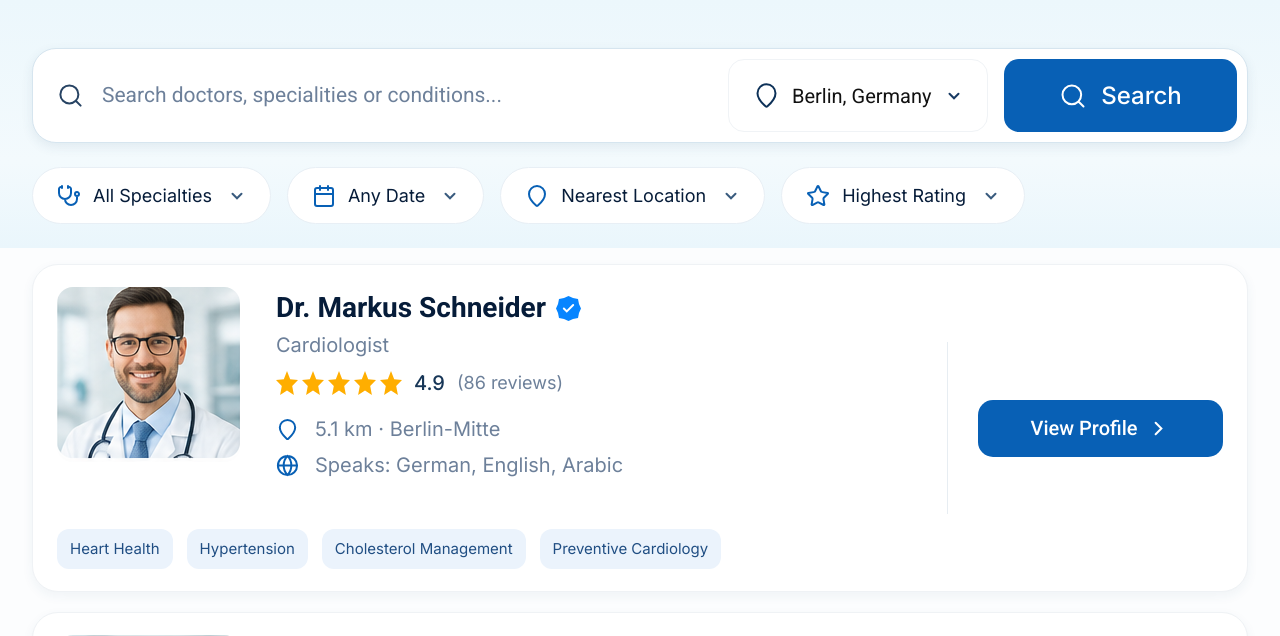
Dashboard › filters the list when a search is submitted
This screenshot has width=1280, height=636.
Type "Laura" into the field labelled "Search doctors, specialities or conditions" at x=406, y=96, box [100,79,712,112]
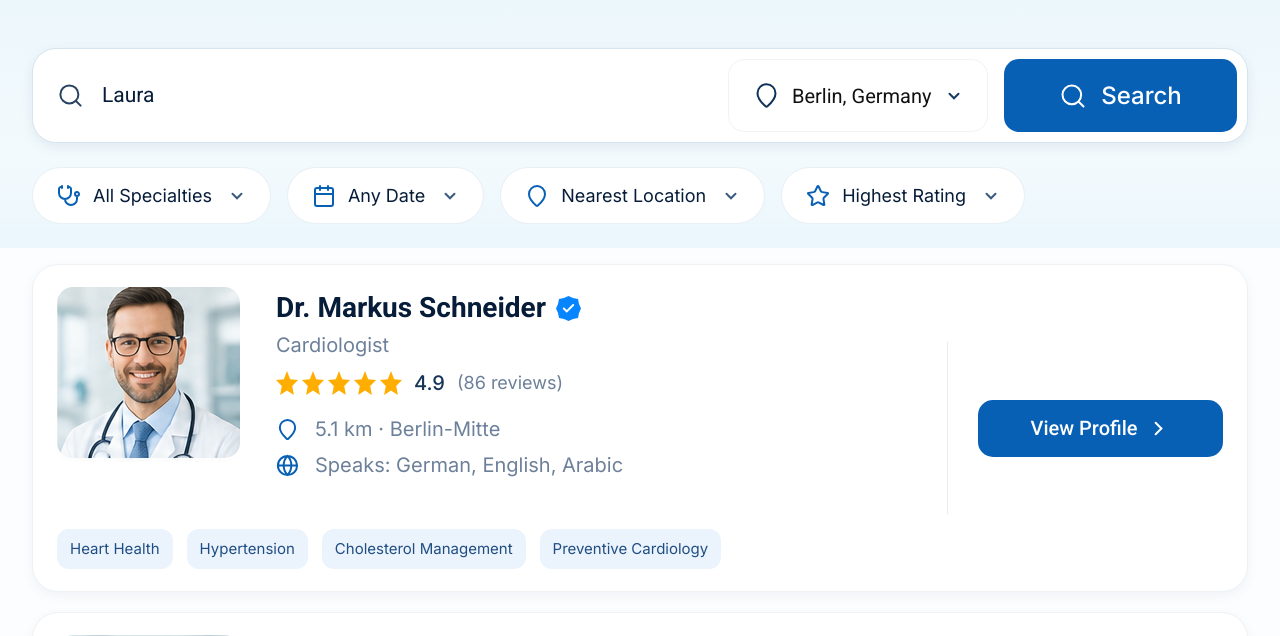
Click the button "Search" at x=1120, y=96, box [1004,59,1237,132]
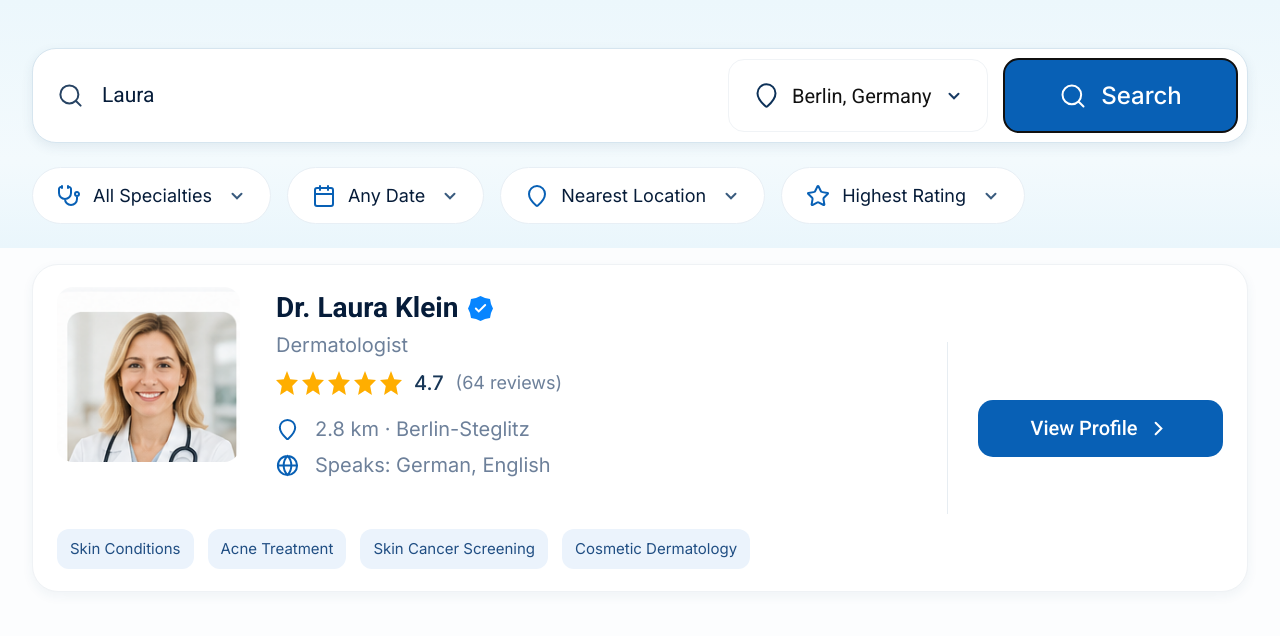
Check: the heading "Dr. Laura Klein" is shown, box [276,291,458,325]
Check: the heading "Dr. Markus Schneider" is gone
